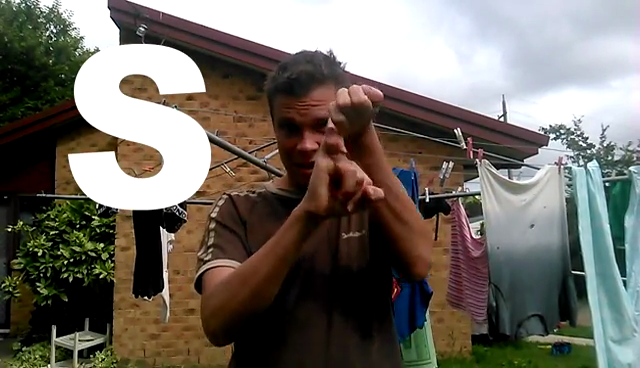S: (298, 75, 394, 228)
